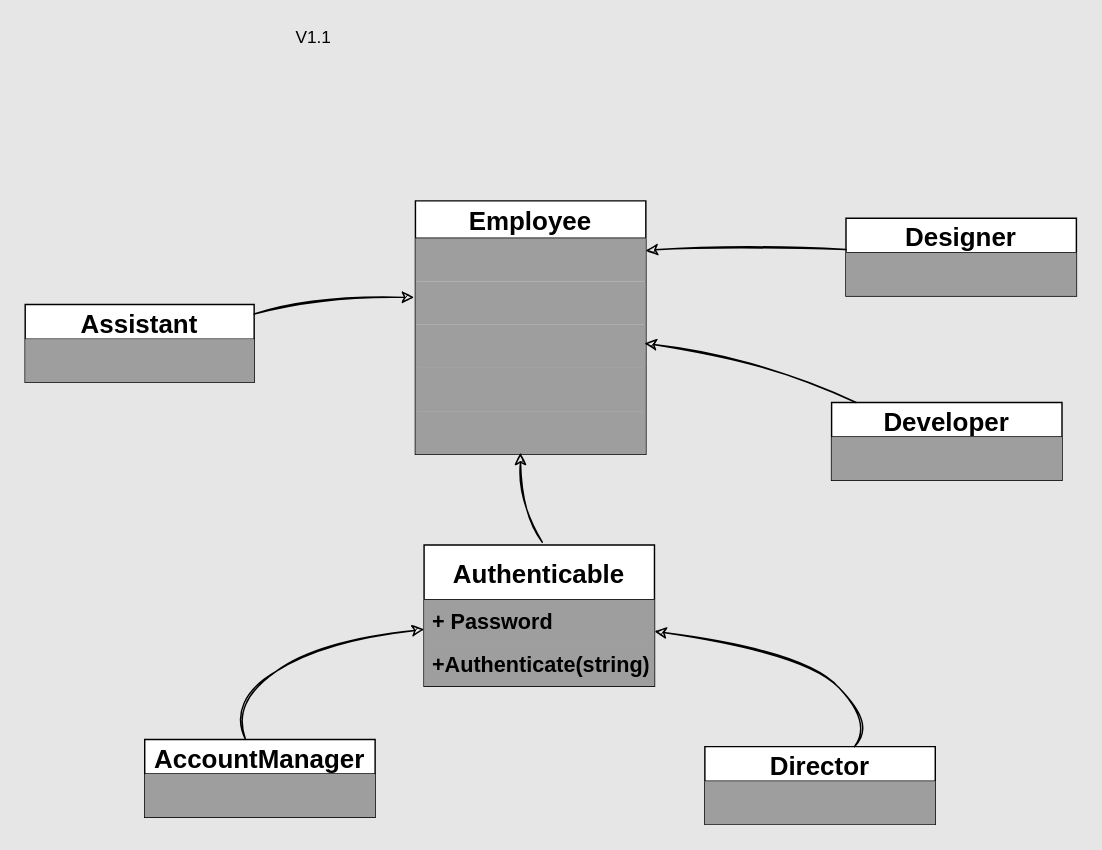
The diagram is 1102 pixels wide and 850 high, and some of its shapes have lost their labels. Here are the shapes that lost their labels. From the top down, the centre of each, then its label:
point 530,259: + Name
point 530,302: + CPF
point 530,345: + Wage
point 530,388: + WageRaise()
point 530,432: + GetBonus()
